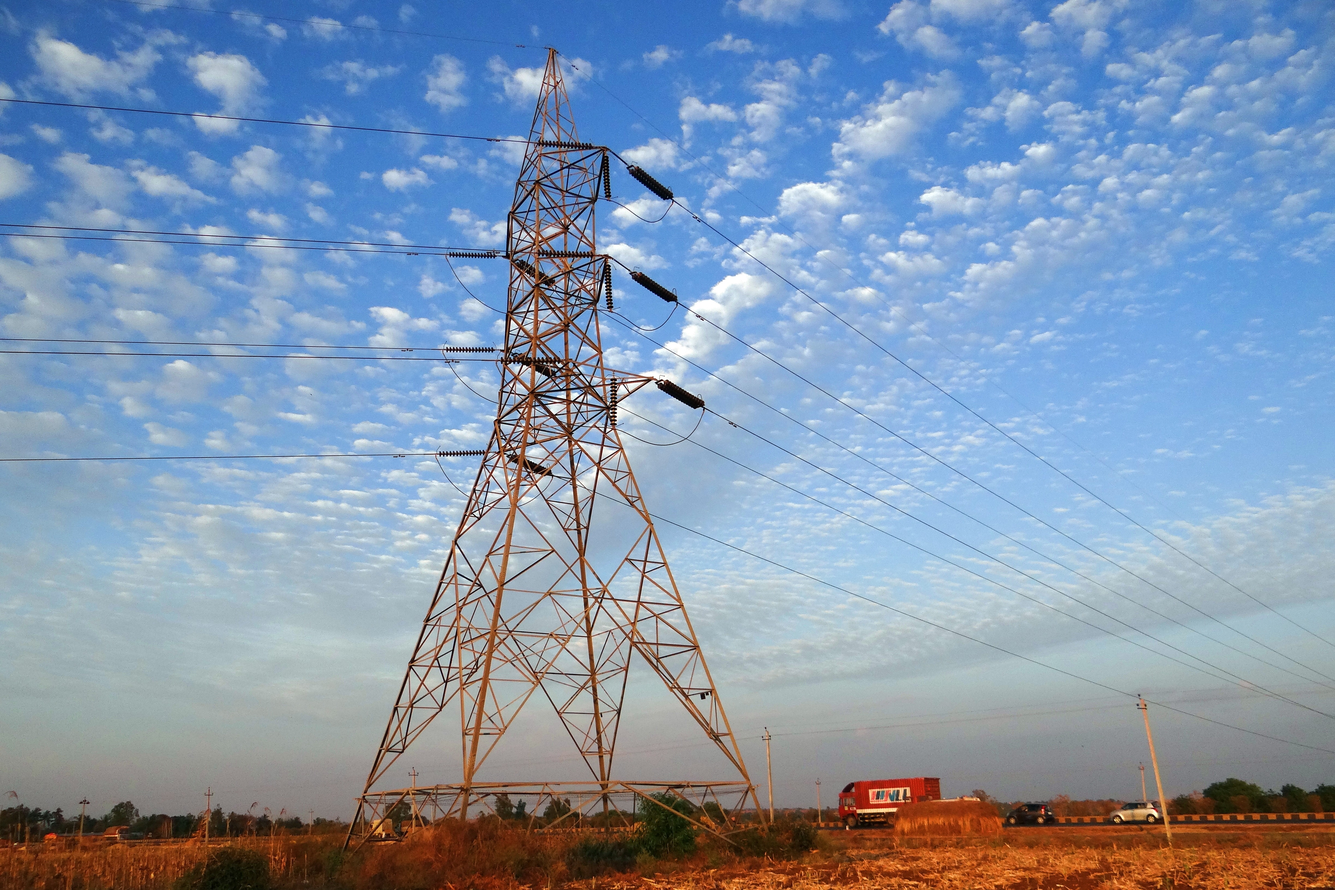insulator: (626, 158, 679, 206), (656, 373, 704, 416), (632, 267, 681, 308), (593, 151, 616, 206), (535, 244, 598, 264), (440, 248, 507, 265), (601, 258, 618, 319), (536, 135, 596, 152), (440, 341, 502, 354), (435, 446, 493, 459), (608, 367, 619, 433)
